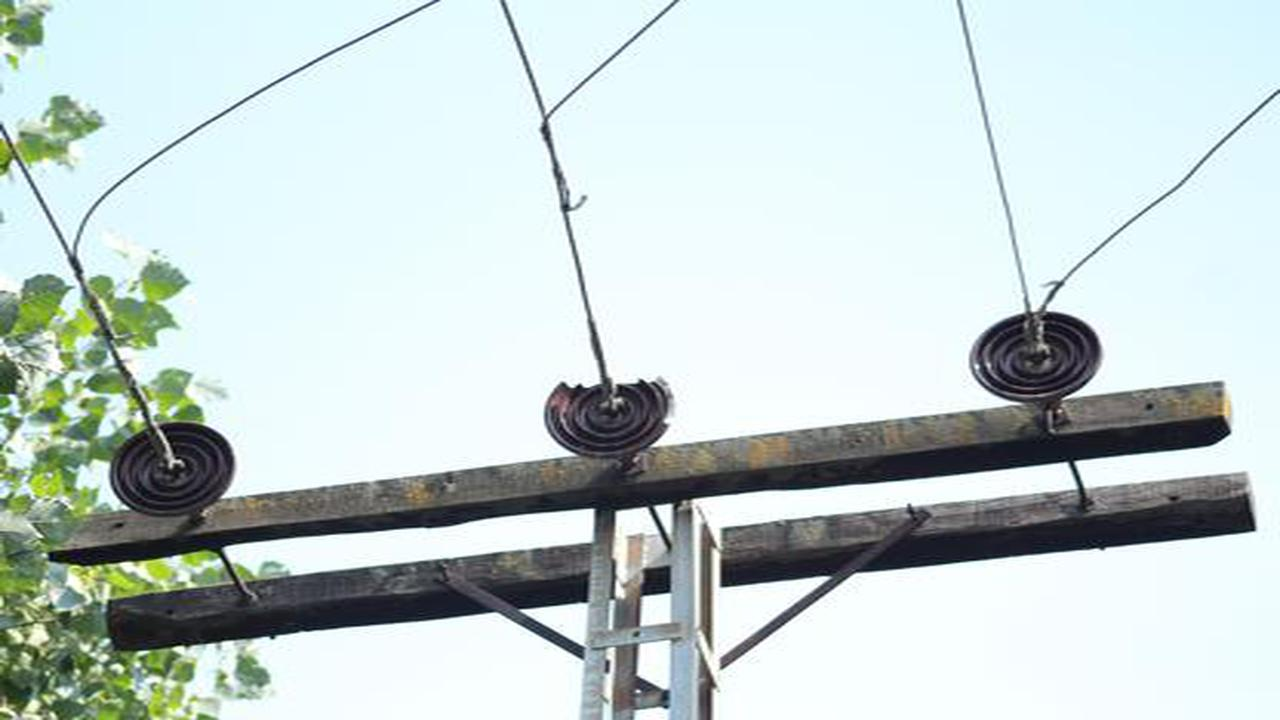defect_disc: (542, 371, 682, 462)
insulator_disc: (966, 305, 1109, 410), (108, 419, 241, 520)
